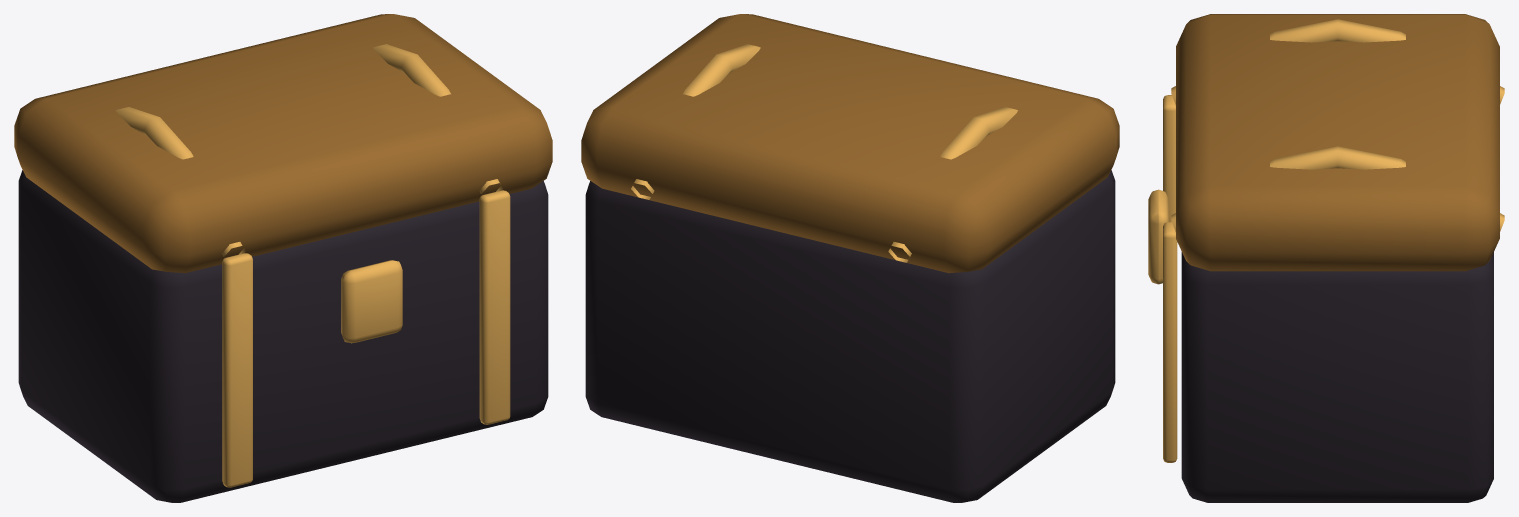
The model's file is loot-1-refined-v15.fbx.
The picture shows the model from 3 angles, left to right: view 1: azimuth 30°, elevation 25°; view 2: azimuth 150°, elevation 25°; view 3: azimuth 270°, elevation 25°; orthographic projection.
Parts seen in each view (by area): view 1: ChestBody, ChestLid, ChestBinding.001, ChestBinding, ChestLock, LidBinding.001, LidBinding; view 2: ChestBody, ChestLid, LidBinding.001, LidBinding; view 3: ChestLid, ChestBody, ChestBinding.001, LidBinding.001, LidBinding, ChestLock, ChestBinding.
Boxes of the visible parts, bbox=[...] form: ChestBody: bbox=[18, 170, 548, 502]; ChestLid: bbox=[14, 14, 552, 273]; ChestBinding.001: bbox=[479, 190, 510, 424]; ChestBinding: bbox=[222, 253, 252, 487]; ChestLock: bbox=[341, 260, 402, 343]; LidBinding.001: bbox=[373, 44, 502, 193]; LidBinding: bbox=[116, 107, 245, 256]; ChestBody: bbox=[585, 170, 1115, 502]; ChestLid: bbox=[581, 14, 1119, 273]; LidBinding.001: bbox=[631, 44, 760, 199]; LidBinding: bbox=[888, 107, 1017, 262]; ChestLid: bbox=[1176, 14, 1499, 271]; ChestBody: bbox=[1181, 252, 1493, 502]; ChestBinding.001: bbox=[1163, 222, 1177, 462]; LidBinding.001: bbox=[1171, 146, 1504, 231]; LidBinding: bbox=[1171, 19, 1504, 104]; ChestLock: bbox=[1148, 189, 1168, 284]; ChestBinding: bbox=[1163, 95, 1175, 222].
Size of the model in its own units: 82 by 62.91 by 61.55.
